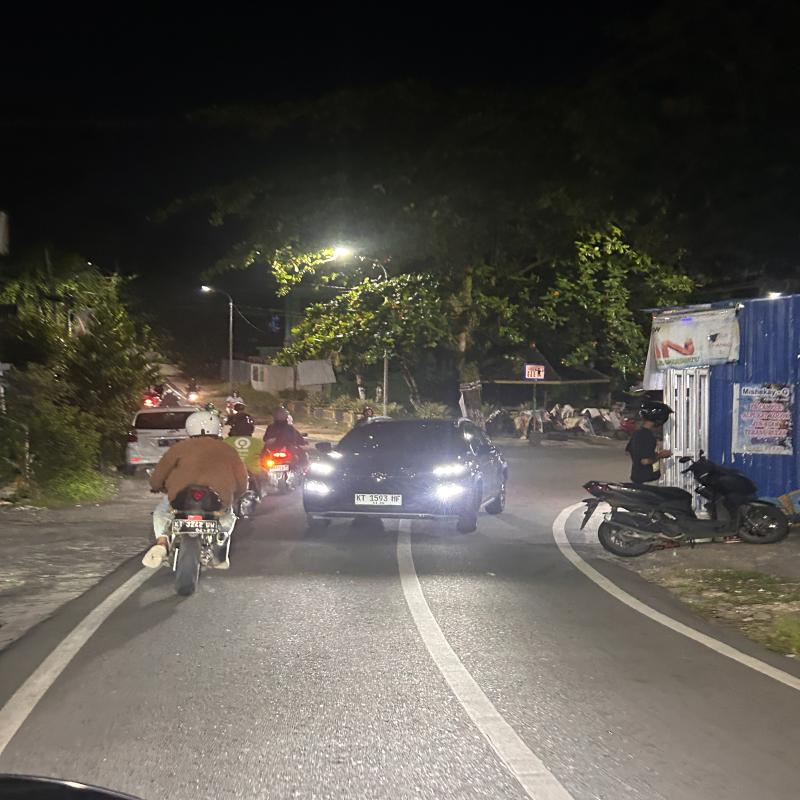license plate on a car: (353, 492, 402, 507)
